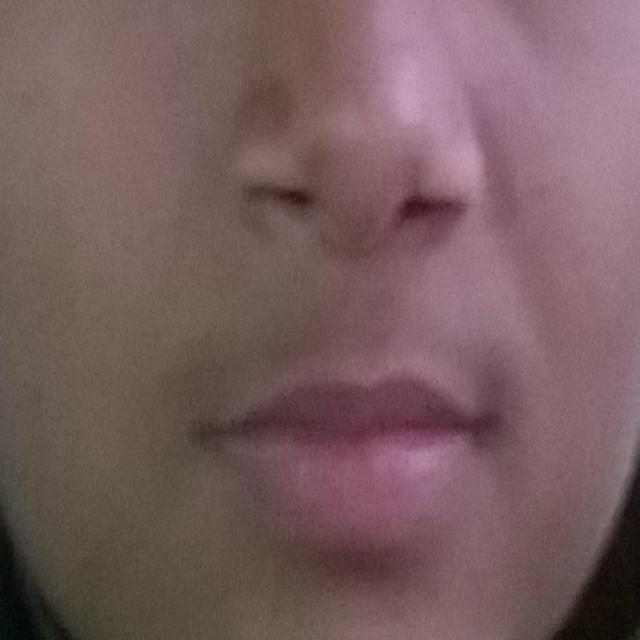normal_tongue: (183, 269, 508, 560)
